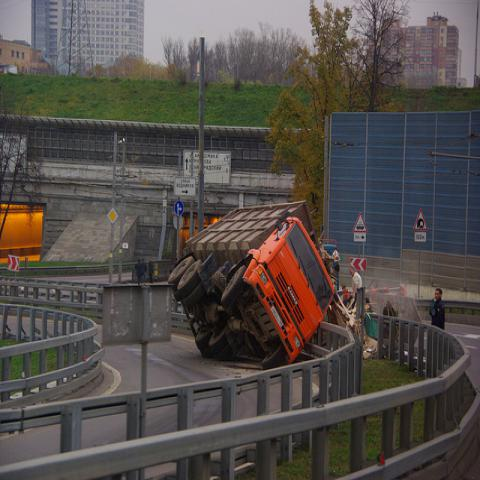truck: (167, 204, 340, 371)
